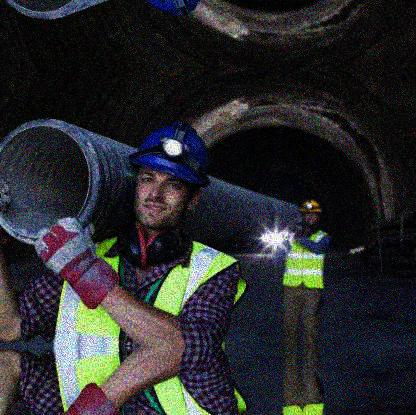helmet: (129, 120, 212, 227), (299, 199, 324, 226)
